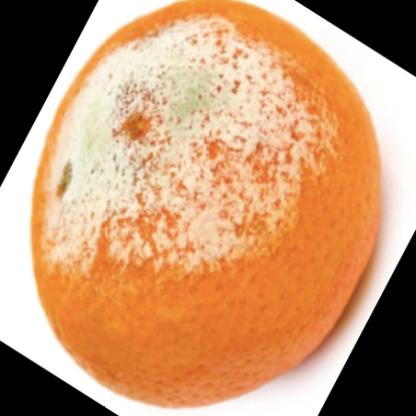rotten: (31, 1, 382, 402)
